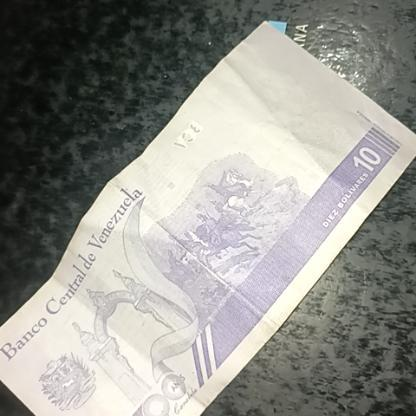ten-back-vef: (10, 23, 416, 416)
